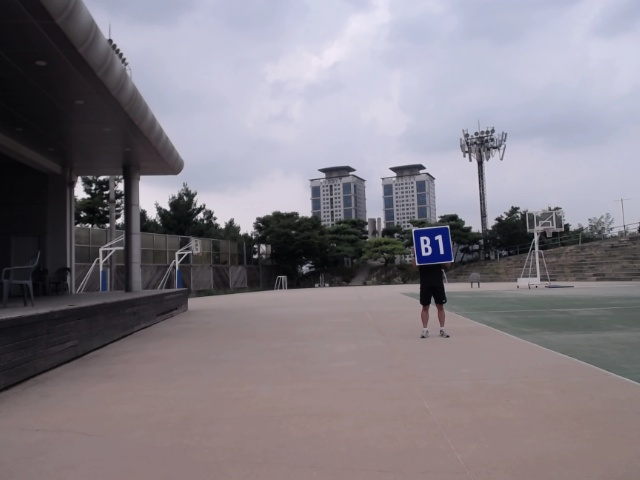delivery_b1: (413, 226, 453, 265)
